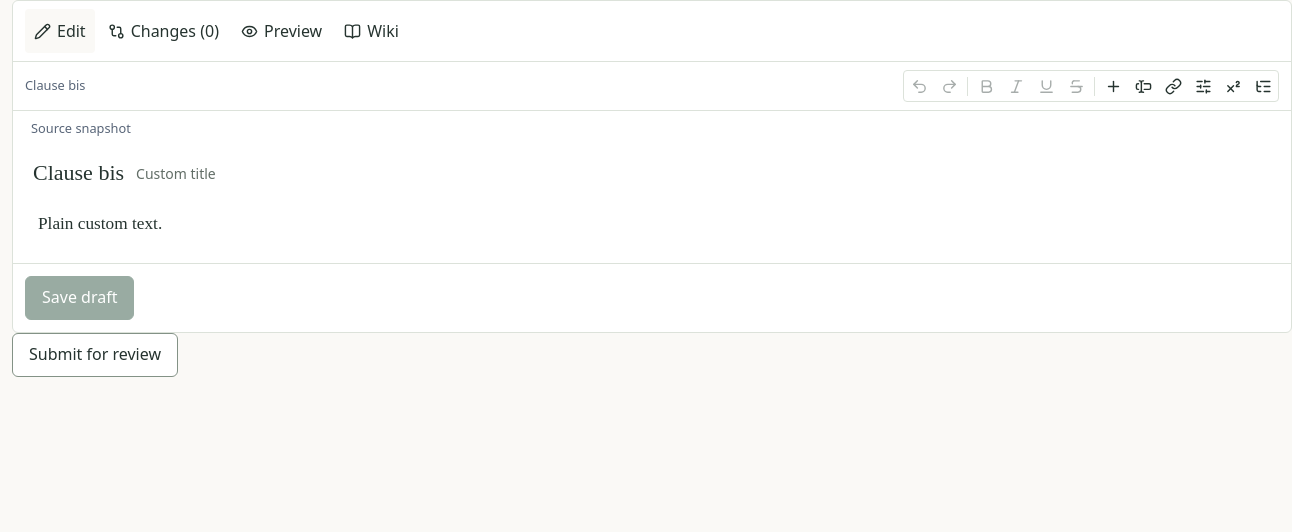
compact structured editor acceptance › shows required metadata only on request and validates literal labels/titles
Click the button named "Unit properties" at coordinates (1203, 86), box [1188,71,1218,101]
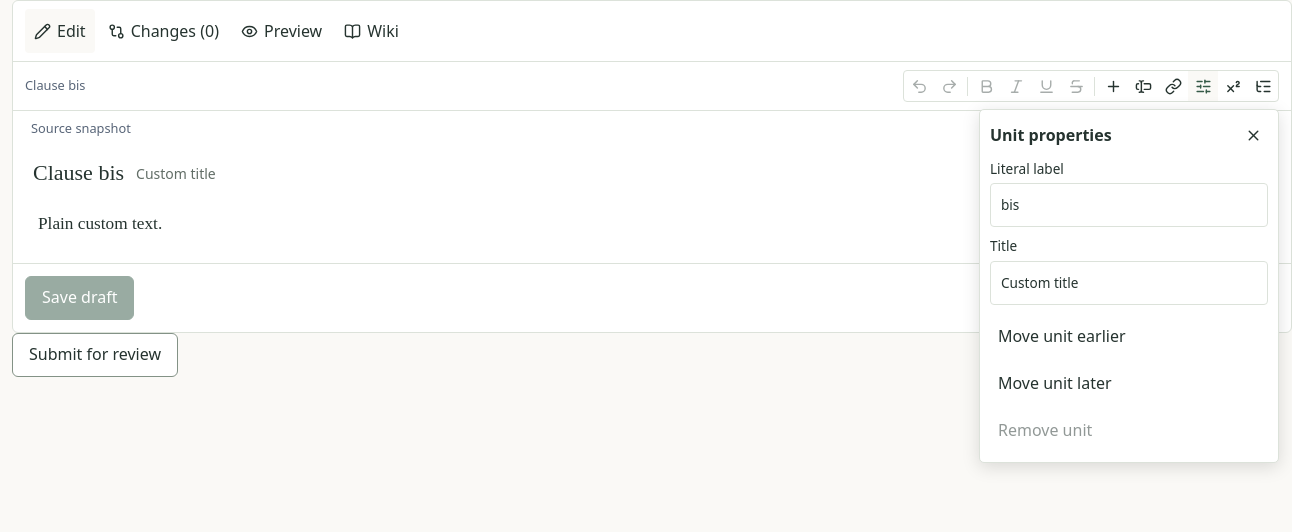
Clear the field named "Clause title" at coordinates (1129, 283), box [990,261,1268,305]
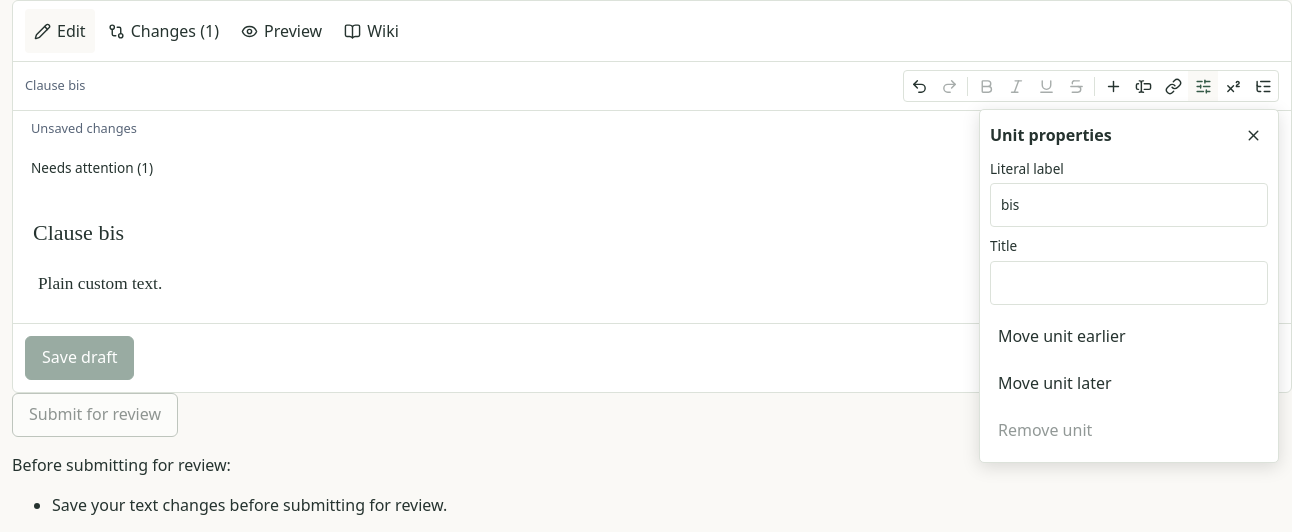
Clear the field labelled "Literal label" at coordinates (1129, 205), box [990,183,1268,227]
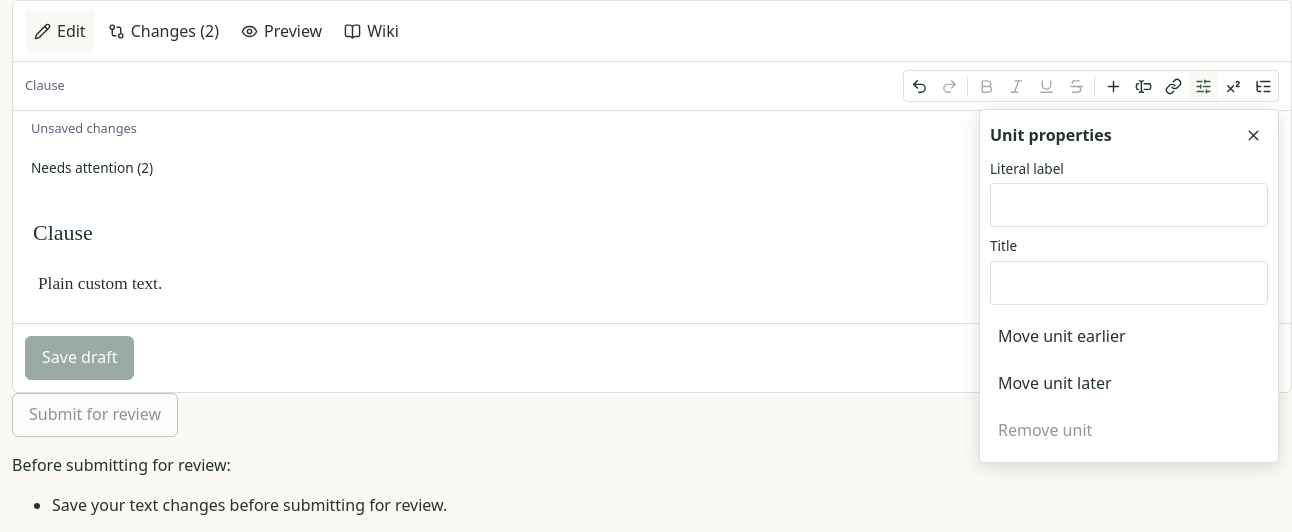
Expected: the button "Save draft" is disabled, [25,336,134,380]
Type "Restored" into the field named "Clause title" at coordinates (1129, 283), box [990,261,1268,305]
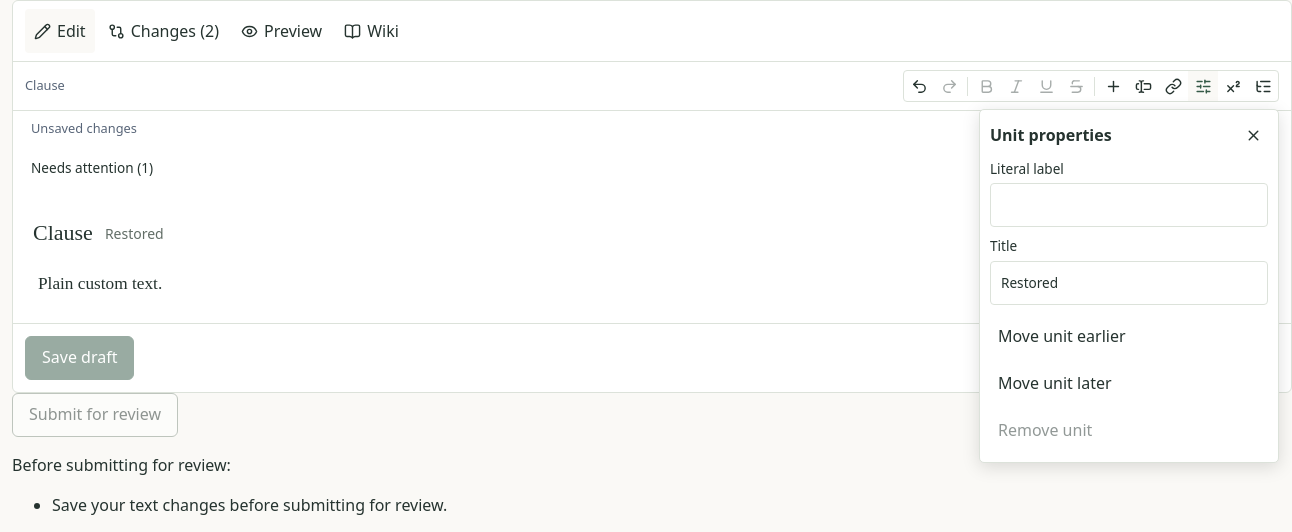
Type "(2a)" into the field labelled "Literal label" at coordinates (1129, 205), box [990,183,1268,227]
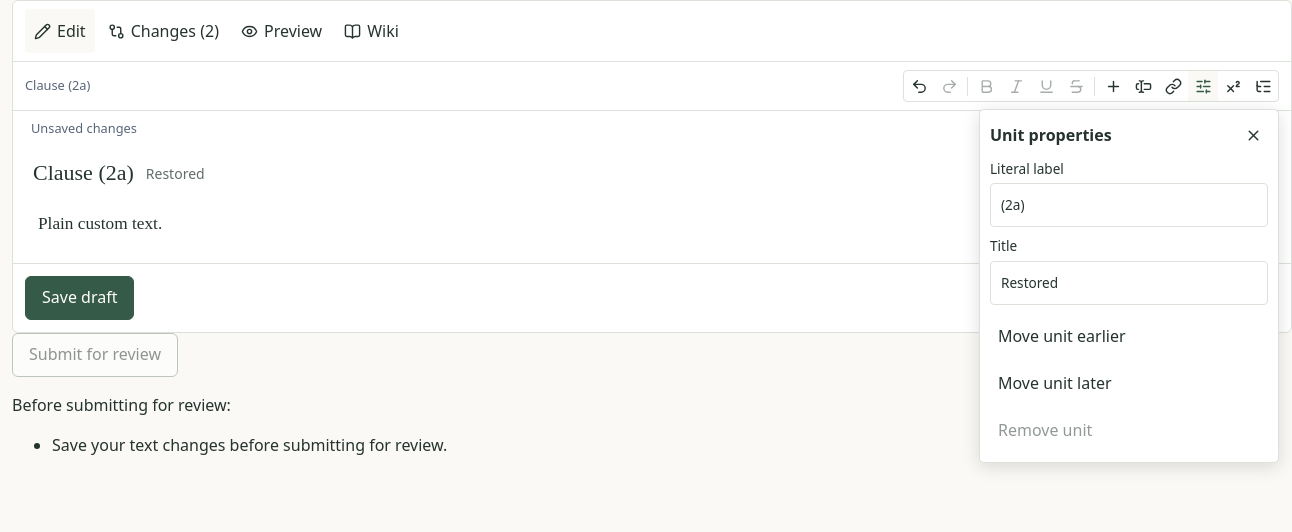
Result: the button "Save draft" is enabled at [25,276,134,320]
